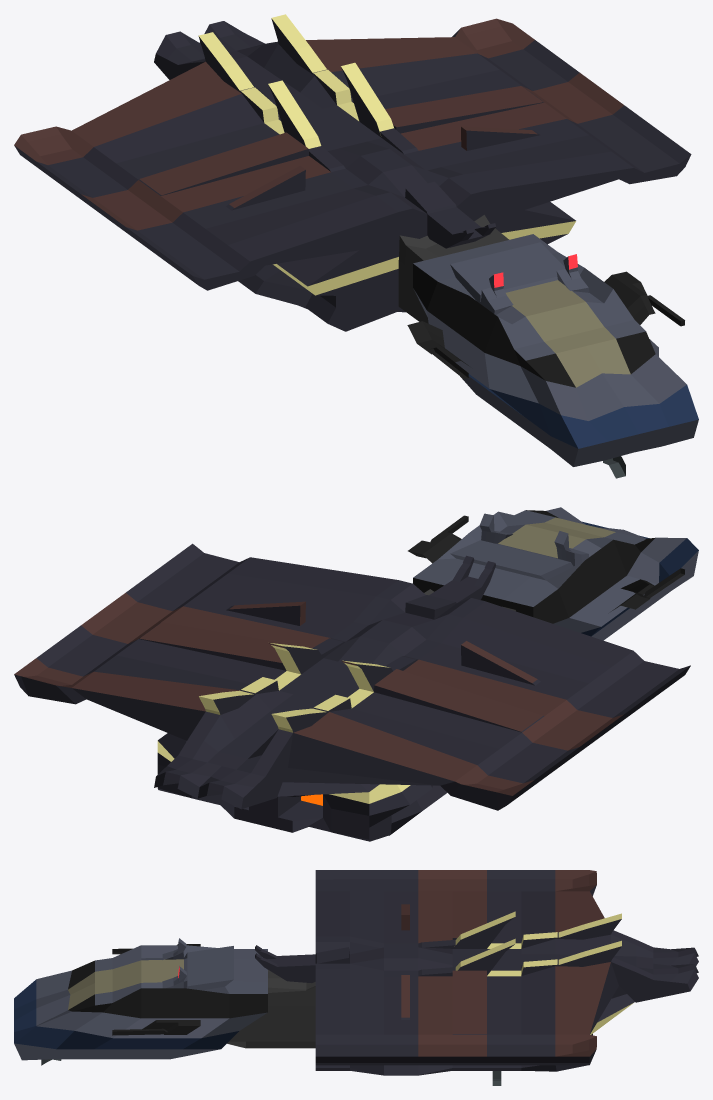
Rendered from ship.fbx.
3 views of the same model, one above another, from view 1: azimuth 30°, elevation 25°; view 2: azimuth 150°, elevation 25°; view 3: azimuth 270°, elevation 25° (orthographic). The views are drawn at different scales.
Visible parts, largest first — view 1: rear, front, middle; view 2: rear, front; view 3: rear, front, middle.
Boxes of the visible parts, x1=… form: rear: x1=14, y1=14, x2=691, y2=331; front: x1=407, y1=234, x2=698, y2=466; middle: x1=398, y1=215, x2=508, y2=323; rear: x1=14, y1=543, x2=690, y2=841; front: x1=408, y1=507, x2=698, y2=640; rear: x1=255, y1=870, x2=698, y2=1075; front: x1=14, y1=938, x2=267, y2=1060; middle: x1=227, y1=970, x2=315, y2=1048.
Size of the model in its own units: 11.54 by 3.93 by 17.9.
